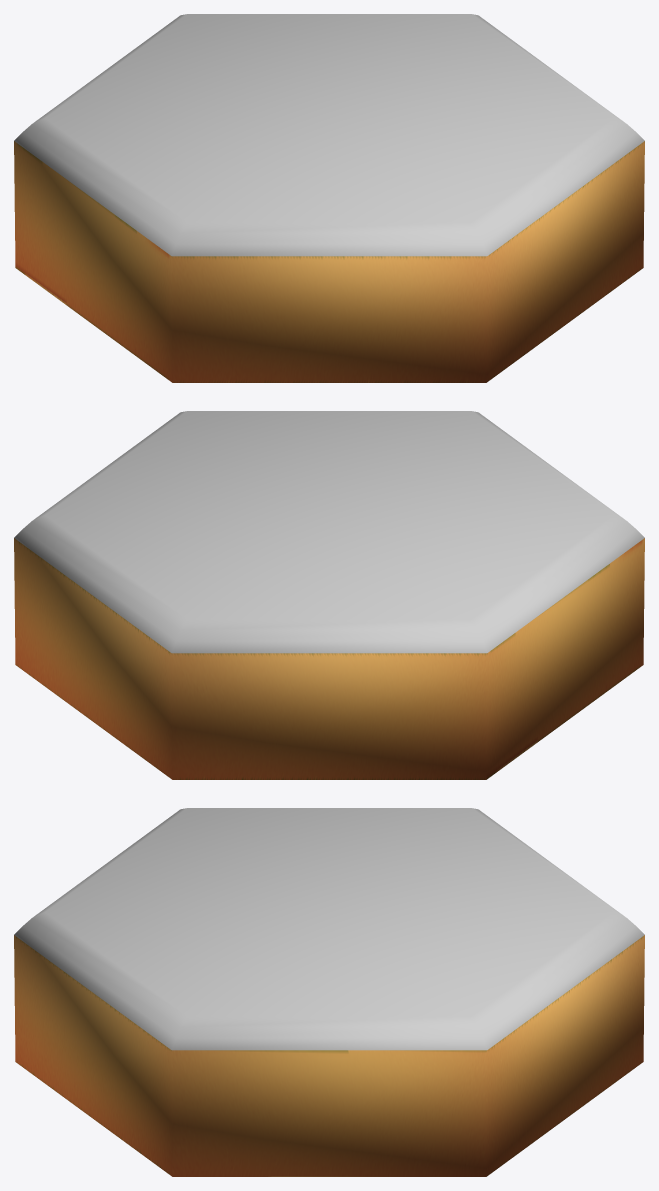
Rendered from ground.fbx.
The picture shows the model from 3 angles, top to bottom: view 1: azimuth 30°, elevation 25°; view 2: azimuth 150°, elevation 25°; view 3: azimuth 270°, elevation 25°; orthographic projection.
Visible parts, largest first — view 1: plane; view 2: plane; view 3: plane.
Part boxes in pixels (x1,y1,x2,y2): plane: (14, 14, 644, 382); plane: (14, 411, 644, 779); plane: (14, 808, 644, 1176).
Size of the model in its own units: 400 by 121 by 462.
